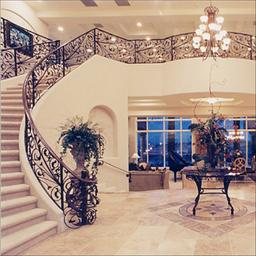Escaleras: (1, 29, 94, 253)
Matera: (59, 123, 106, 182)
